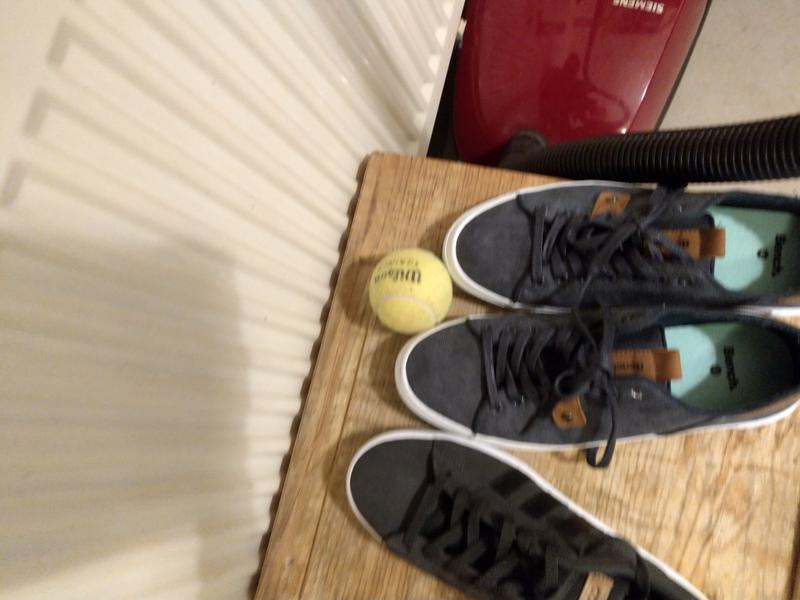Tennisball: (364, 246, 455, 337)
